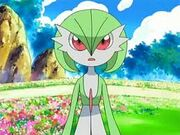gardevoir: (50, 9, 132, 135)
